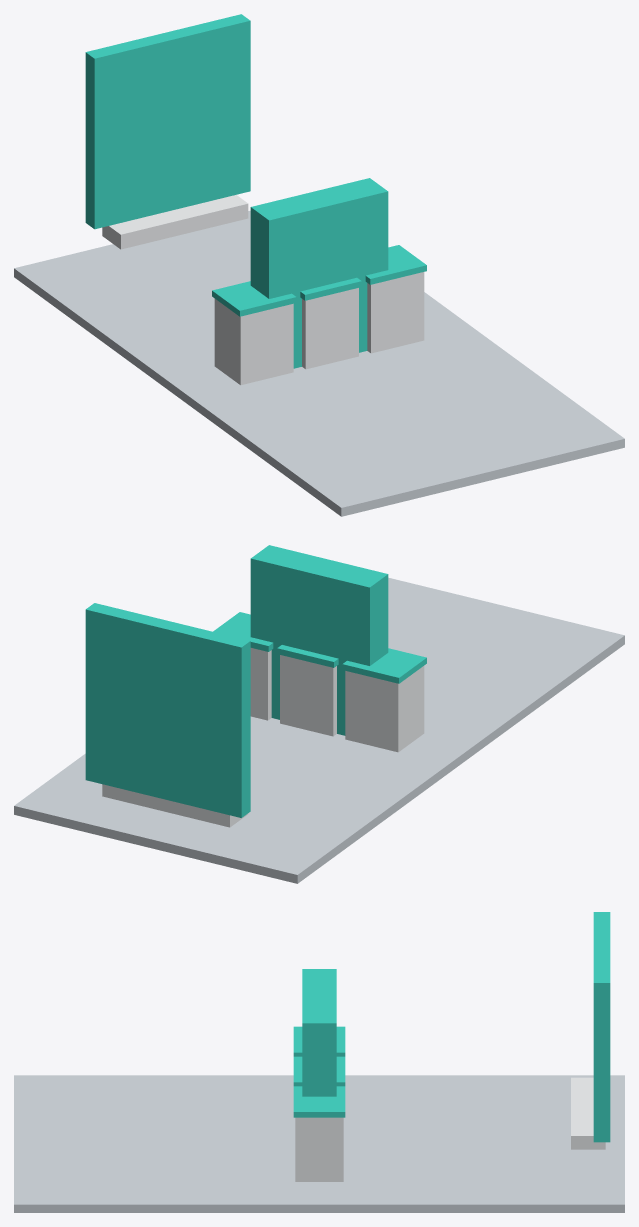
The picture shows the model from 3 angles, top to bottom: view 1: azimuth 30°, elevation 25°; view 2: azimuth 150°, elevation 25°; view 3: azimuth 270°, elevation 25°; orthographic projection. The views are drawn at different scales.
Visible parts, largest first — view 1: Exhibition Booth Concept; view 2: Exhibition Booth Concept; view 3: Exhibition Booth Concept.
Part boxes in pixels (<box>): Exhibition Booth Concept: <box>14,14,624,516</box>; Exhibition Booth Concept: <box>14,545,624,883</box>; Exhibition Booth Concept: <box>14,912,624,1212</box>.
Size of the model in its own units: 4 by 2.9 by 8.
